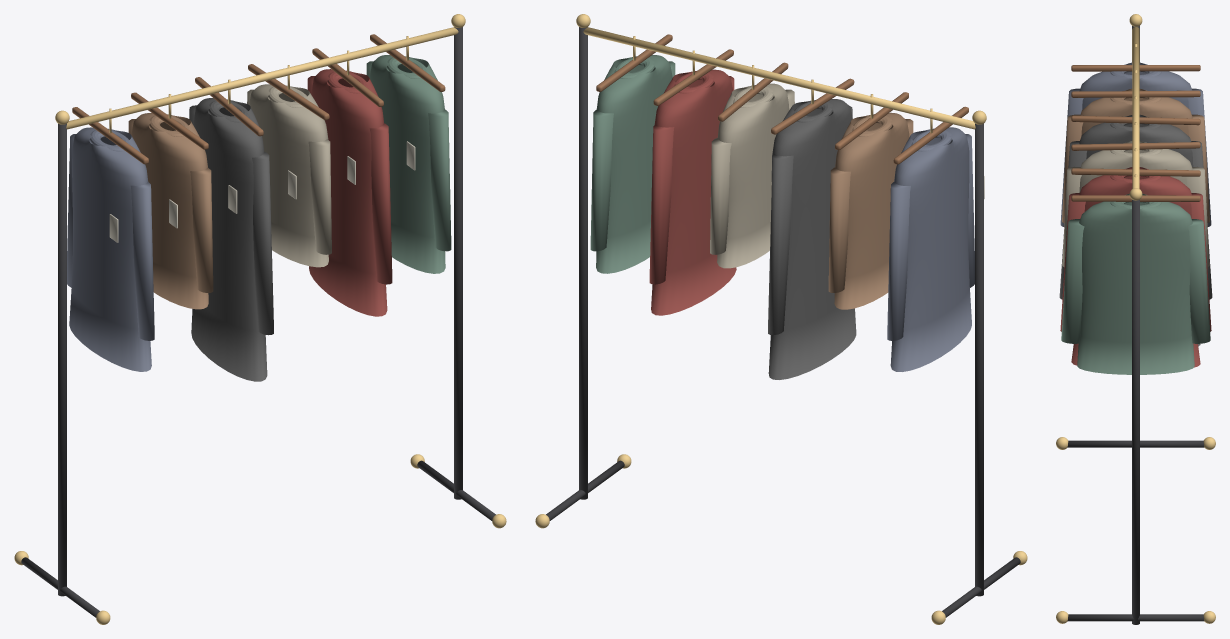
The model's file is v2_clothes_rack.fbx.
3 renders of one model, left to right at view 1: azimuth 30°, elevation 25°; view 2: azimuth 150°, elevation 25°; view 3: azimuth 270°, elevation 25°, orthographic. The views are drawn at different scales.
Parts seen in each view (by area): view 1: Coat0, Coat2, Coat4, Coat5, Coat1, Coat3, Upright-1, Upright1, Rail, Coat2Sleeve-1, Coat0Sleeve-1, Coat4Sleeve-1 (+9 smaller); view 2: Coat0, Coat2, Coat4, Coat5, Coat1, Coat3, Upright-1, Upright1, Coat2Sleeve1, Rail, Coat4Sleeve1, Coat0Sleeve1 (+9 smaller); view 3: Coat5, Upright1, Coat4, Coat5Sleeve-1, Coat5Sleeve1, Coat2, Coat0, Coat1, Coat3, Rail, Foot1.001, Foot-1 (+18 smaller).
Part boxes in pixels (<box>): Coat0: <box>69,127,151,371</box>; Coat2: <box>191,98,267,381</box>; Coat4: <box>309,69,387,316</box>; Coat5: <box>369,55,445,273</box>; Coat1: <box>131,113,208,309</box>; Coat3: <box>249,84,328,267</box>; Upright-1: <box>58,123,66,596</box>; Upright1: <box>454,27,462,499</box>; Rail: <box>66,27,458,129</box>; Coat2Sleeve-1: <box>252,151,273,335</box>; Coat0Sleeve-1: <box>130,182,154,340</box>; Coat4Sleeve-1: <box>369,123,392,284</box>; Coat0: <box>890,127,971,371</box>; Coat2: <box>768,99,856,379</box>; Coat4: <box>651,69,736,315</box>; Coat5: <box>596,55,672,273</box>; Coat1: <box>834,112,909,309</box>; Coat3: <box>717,83,789,268</box>; Upright-1: <box>975,123,983,596</box>; Upright1: <box>579,27,587,499</box>; Coat2Sleeve1: <box>768,154,793,335</box>; Rail: <box>583,27,975,129</box>; Coat4Sleeve1: <box>649,124,674,284</box>; Coat0Sleeve1: <box>887,181,910,340</box>; Coat5: <box>1077,193,1194,374</box>; Upright1: <box>1132,199,1139,624</box>; Coat4: <box>1071,167,1200,367</box>; Coat5Sleeve-1: <box>1061,219,1084,343</box>; Coat5Sleeve1: <box>1188,219,1210,343</box>; Coat2: <box>1079,114,1200,346</box>; Coat0: <box>1079,62,1192,109</box>; Coat1: <box>1080,88,1192,135</box>; Coat3: <box>1079,141,1192,192</box>; Rail: <box>1132,27,1139,188</box>; Foot1.001: <box>1067,614,1204,621</box>; Foot-1: <box>1067,440,1204,447</box>.
Bounding box in the file's own units: 1.44 × 1.63 × 0.544.
